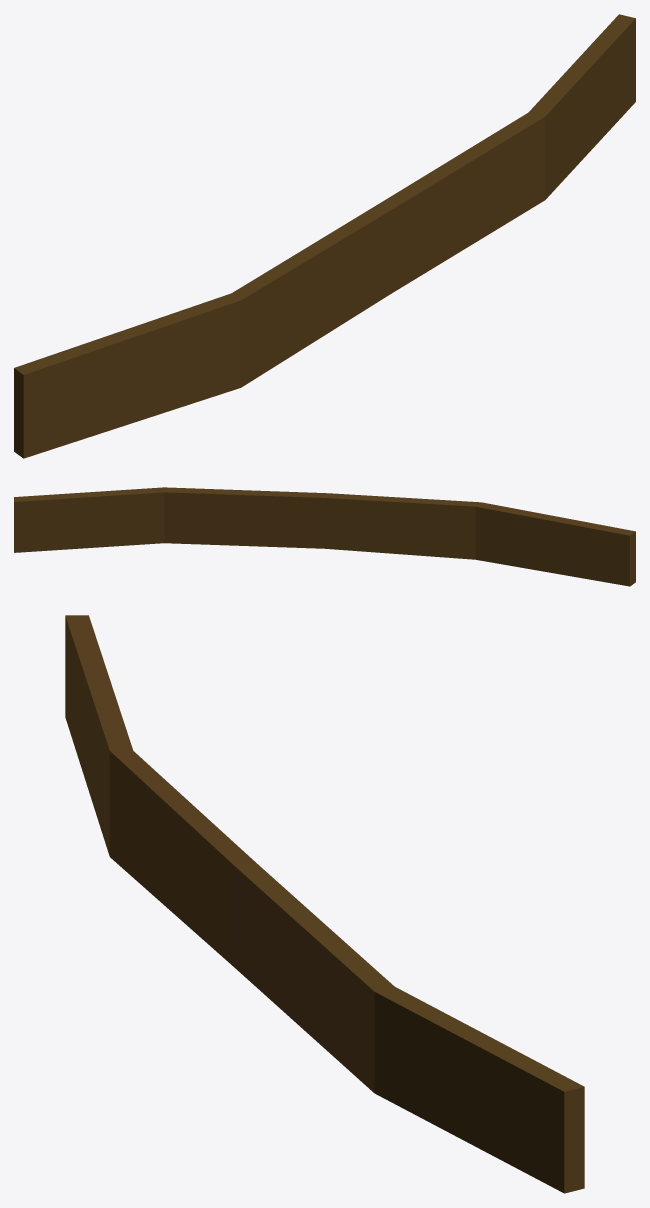
File: blockfix.glb
3 views of the same model, one above another, from view 1: azimuth 30°, elevation 25°; view 2: azimuth 150°, elevation 25°; view 3: azimuth 270°, elevation 25° (orthographic). The views are drawn at different scales.
Visible parts, largest first — view 1: Cube.061; view 2: Cube.061; view 3: Cube.061.
Part boxes in pixels (x1,y1,x2,y2): Cube.061: (14, 14, 635, 458); Cube.061: (14, 487, 635, 586); Cube.061: (65, 615, 584, 1193).
Bounding box in the file's own units: 97.3 × 10.33 × 44.02.
